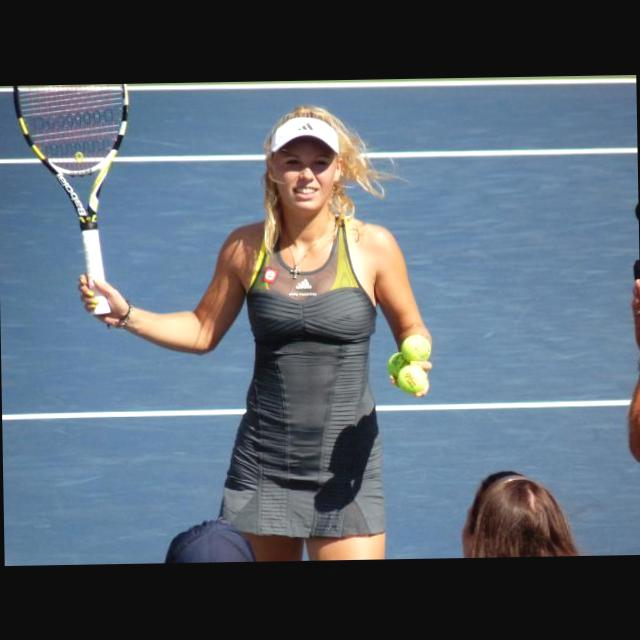Tennis Ball: (396, 365, 426, 395), (400, 335, 430, 363)
